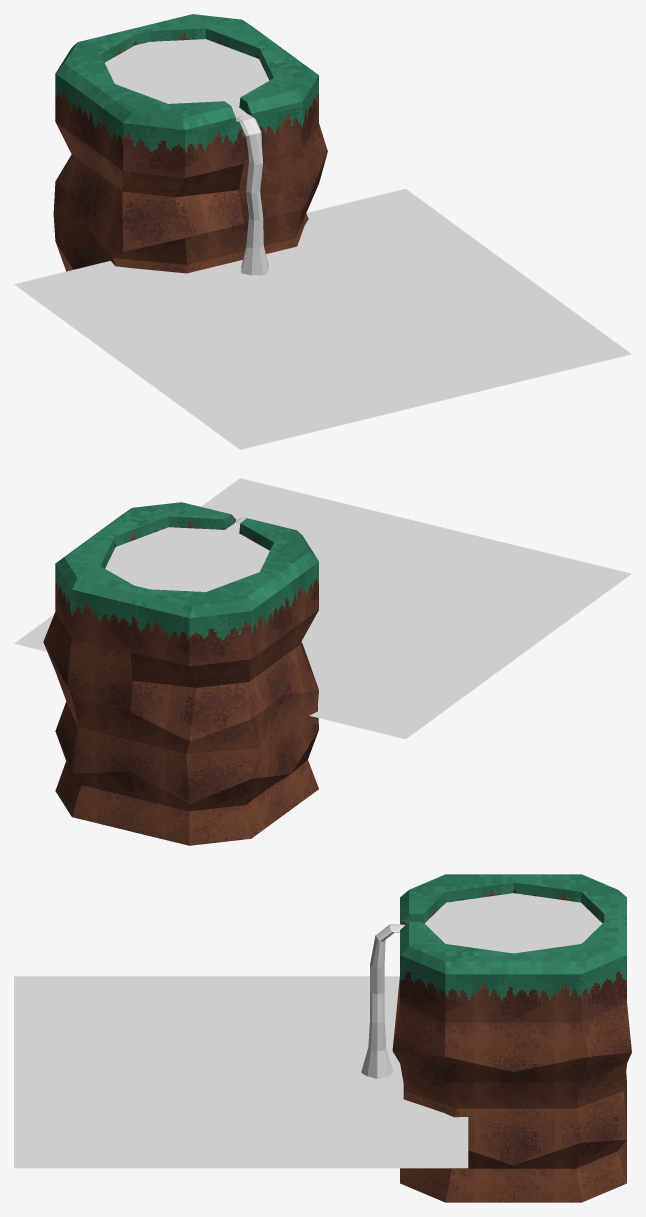
The model's file is water0.fbx.
3 renders of one model, top to bottom at view 1: azimuth 30°, elevation 25°; view 2: azimuth 150°, elevation 25°; view 3: azimuth 270°, elevation 25°, orthographic.
Parts seen in each view (by area): view 1: Plane, ada, adasu, Cylinder; view 2: ada, Plane, adasu; view 3: Plane, ada, adasu, Cylinder.
Boxes of the visible parts, left/top/right/bottom form: Plane: left=14, top=188, right=631, bottom=449; ada: left=53, top=14, right=327, bottom=273; adasu: left=105, top=39, right=269, bottom=119; Cylinder: left=236, top=115, right=268, bottom=275; ada: left=43, top=502, right=318, bottom=845; Plane: left=14, top=478, right=631, bottom=739; adasu: left=105, top=521, right=269, bottom=591; Plane: left=14, top=976, right=468, bottom=1168; ada: left=392, top=874, right=631, bottom=1202; adasu: left=402, top=893, right=602, bottom=953; Cylinder: left=361, top=924, right=403, bottom=1078.
Size of the model in its own units: 2000 by 1150 by 2721.
